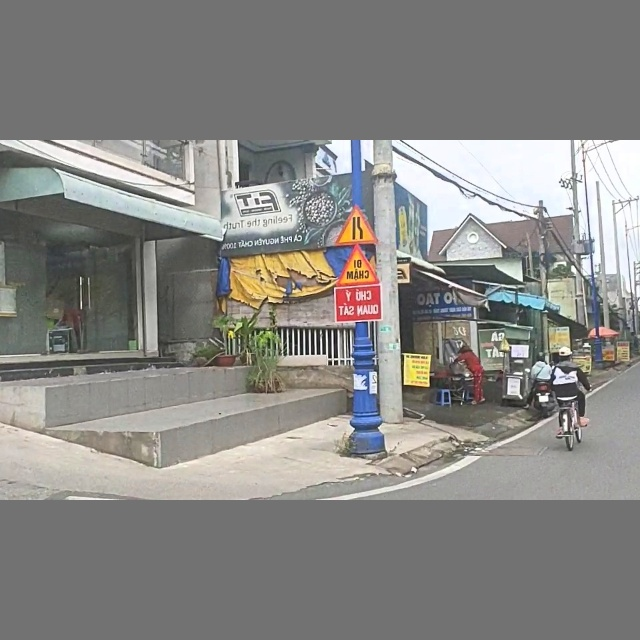W.203b: (334, 203, 379, 246)
W.245a: (335, 245, 379, 286)
